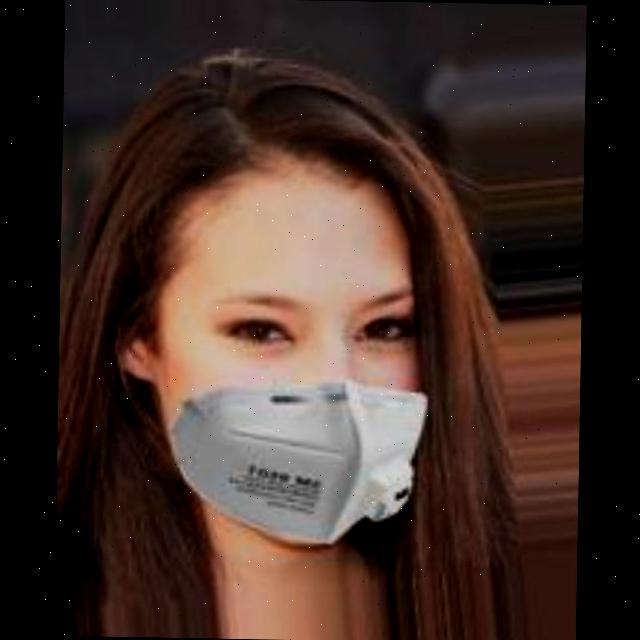suspicion: (94, 122, 460, 580)
